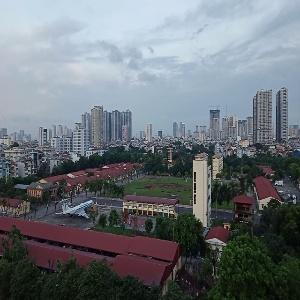drone: (218, 162, 267, 211)
